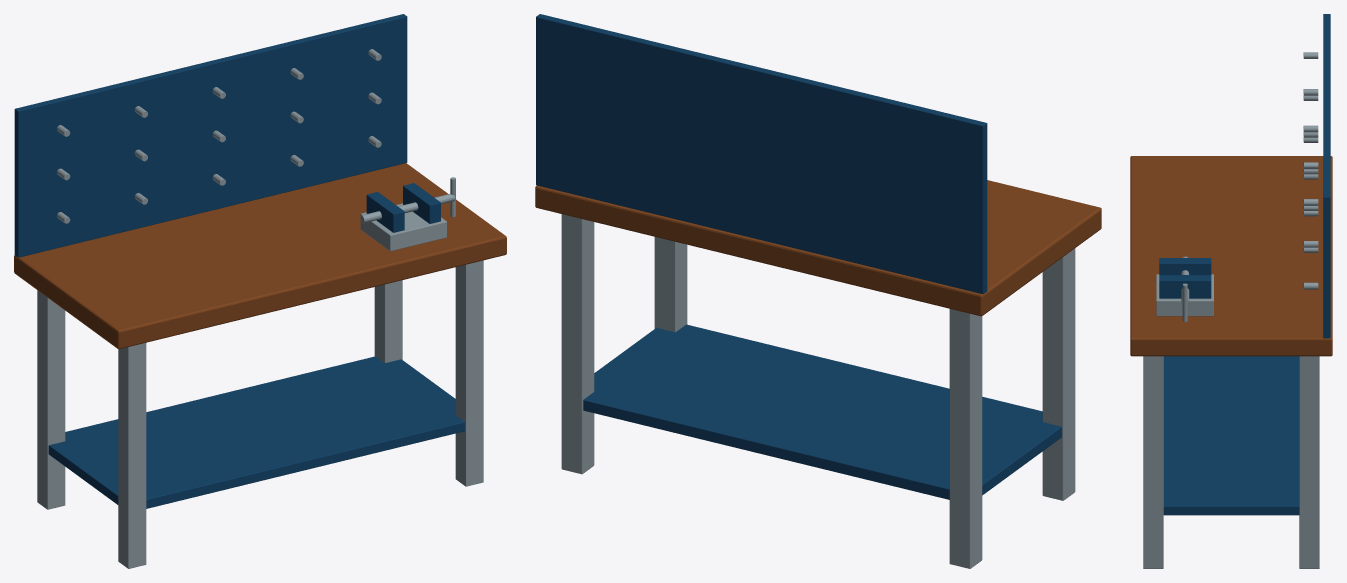
The picture shows the model from 3 angles, left to right: view 1: azimuth 30°, elevation 25°; view 2: azimuth 150°, elevation 25°; view 3: azimuth 270°, elevation 25°; orthographic projection. The views are drawn at different scales.
Parts seen in each view (by area): view 1: PEGBOARD, TOP, SHELF, LEG, LEG.002, LEG.001, LEG.003, VISE_Base, VISE_Jaw, VISE_Jaw.001; view 2: PEGBOARD, SHELF, TOP, LEG.001, LEG.003, LEG, LEG.002; view 3: TOP, SHELF, LEG.002, LEG.003, PEGBOARD, VISE_Jaw.001, VISE_Base, VISE_Jaw.
Part boxes in pixels (x1,y1,x2,y2): PEGBOARD: (14,14,407,257); TOP: (14,163,506,349); SHELF: (48,356,464,508); LEG: (118,343,146,568); LEG.002: (455,260,483,486); LEG.001: (37,290,65,509); LEG.003: (374,280,402,362); VISE_Base: (360,203,446,251); VISE_Jaw: (366,192,404,232); VISE_Jaw.001: (403,183,440,223); PEGBOARD: (536,14,987,293); SHELF: (583,324,1061,499); TOP: (535,180,1101,316); LEG.001: (949,309,982,568); LEG.003: (561,214,594,474); LEG: (1042,248,1075,500); LEG.002: (654,237,687,332); TOP: (1130,156,1332,356); SHELF: (1163,356,1299,515); LEG.002: (1143,356,1163,568); LEG.003: (1299,356,1319,568); PEGBOARD: (1323,14,1330,338); VISE_Jaw.001: (1159,275,1211,298); VISE_Base: (1156,274,1213,316); VISE_Jaw: (1159,258,1211,275).
Size of the model in its own units: 1.5 by 1.45 by 0.7.
